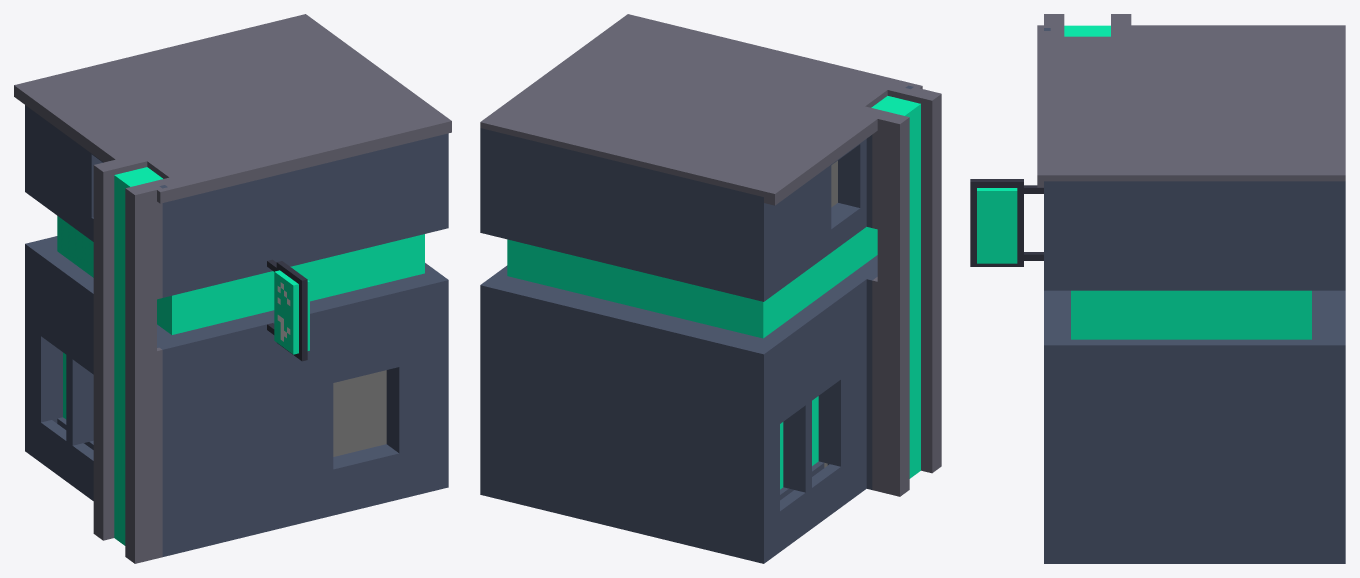
The model's file is Building005(3).obj.
3 views of the same model, side by side, from view 1: azimuth 30°, elevation 25°; view 2: azimuth 150°, elevation 25°; view 3: azimuth 270°, elevation 25° (orthographic). The views are drawn at different scales.
Bounding box in the file's own units: 5.7 × 6.4 × 5.6.
1 material, 1 textured.
